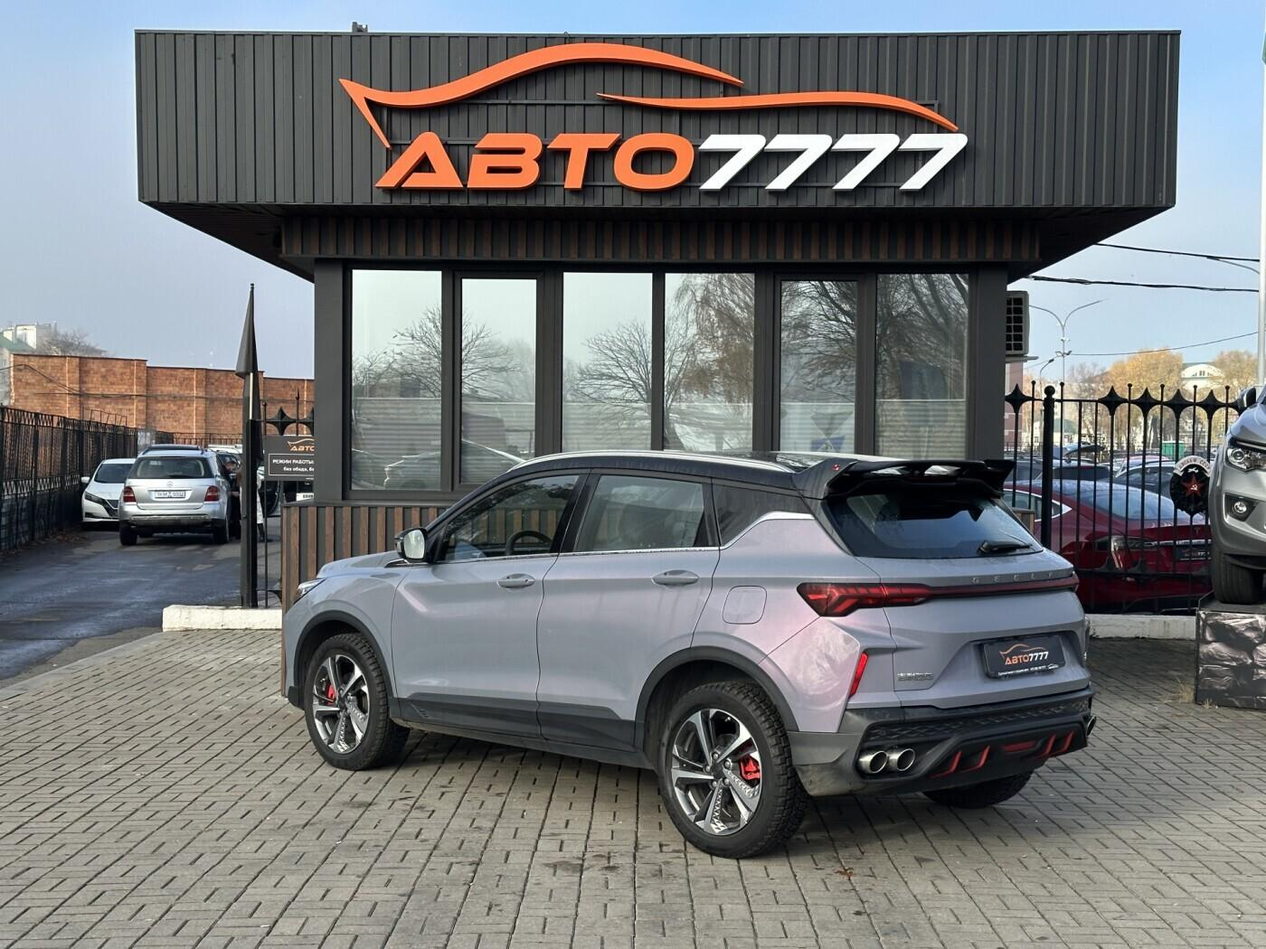Coolray_2019-2023: (279, 444, 1098, 852)
